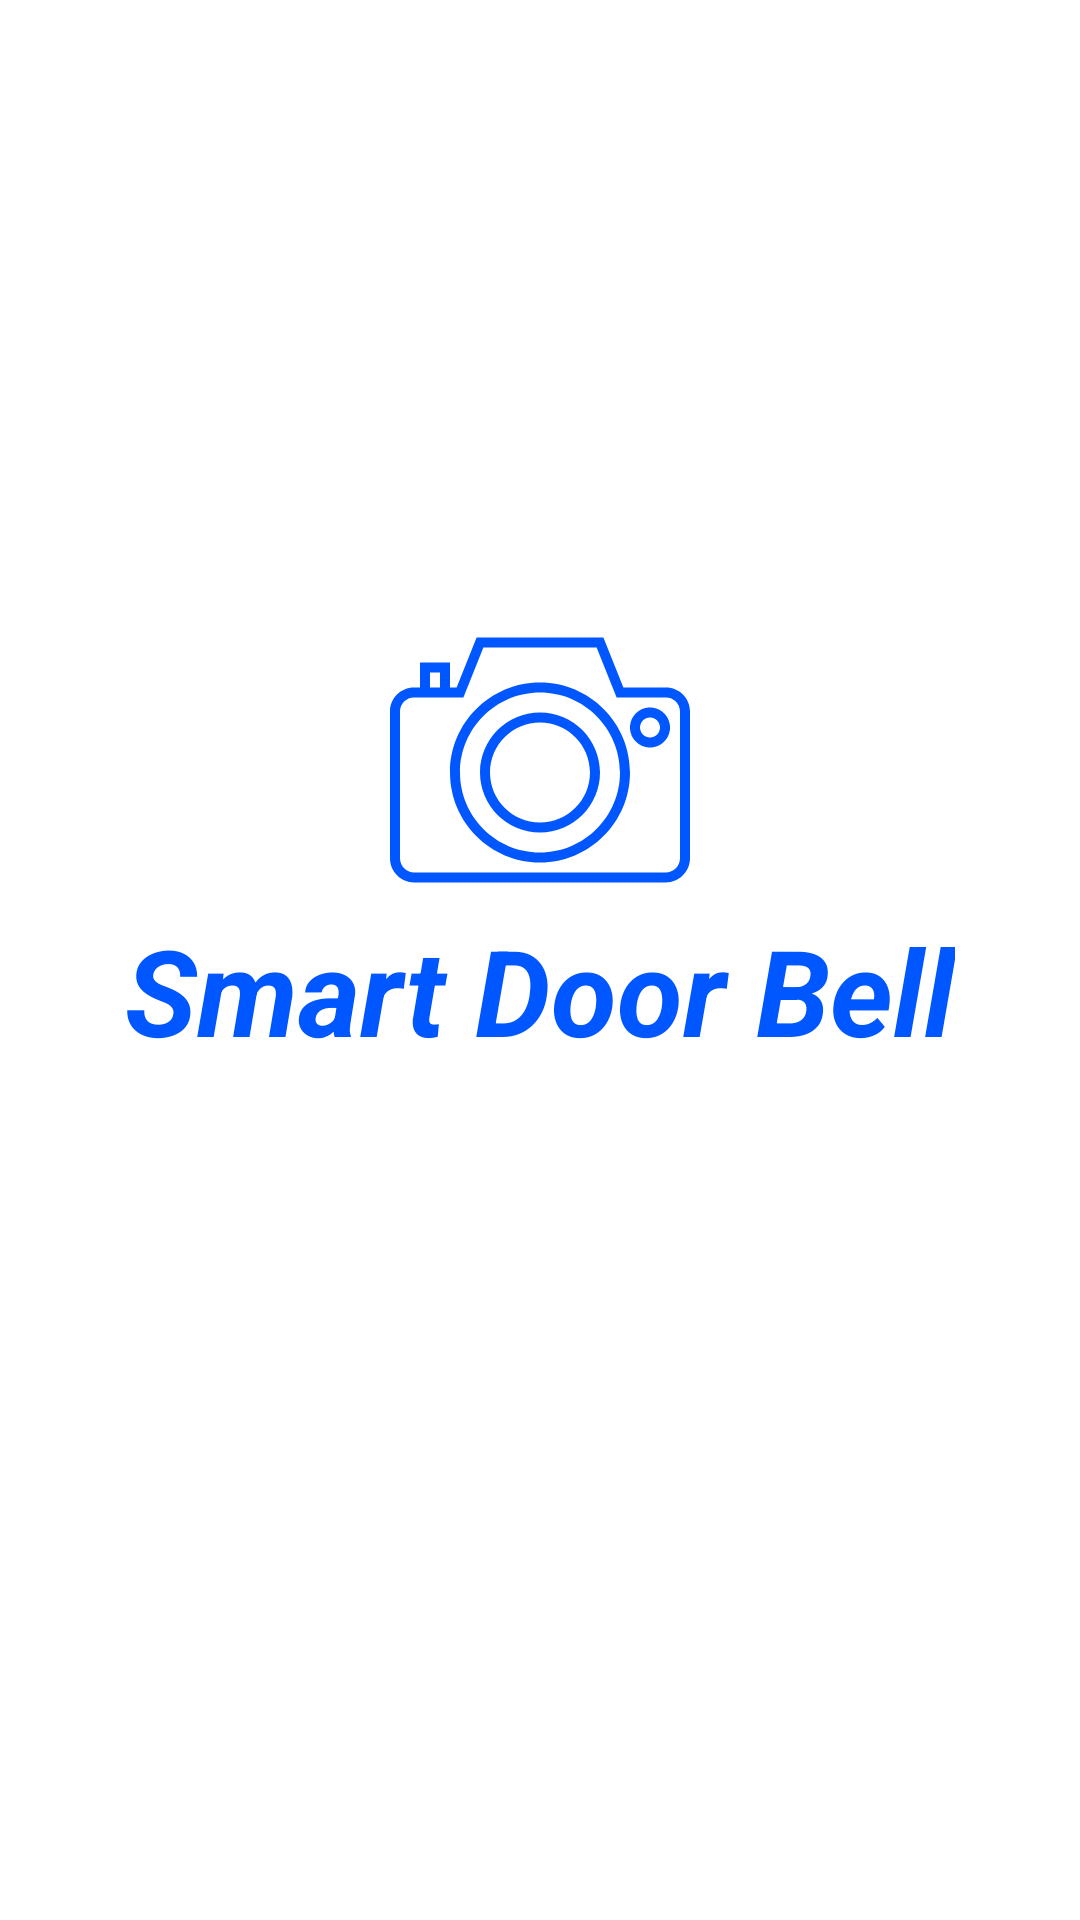

Icon bounding boxes for this 1080w x 1920h phone screenshot, format rect(x1, y1, x2, y2):
camera: rect(390, 637, 690, 883)
